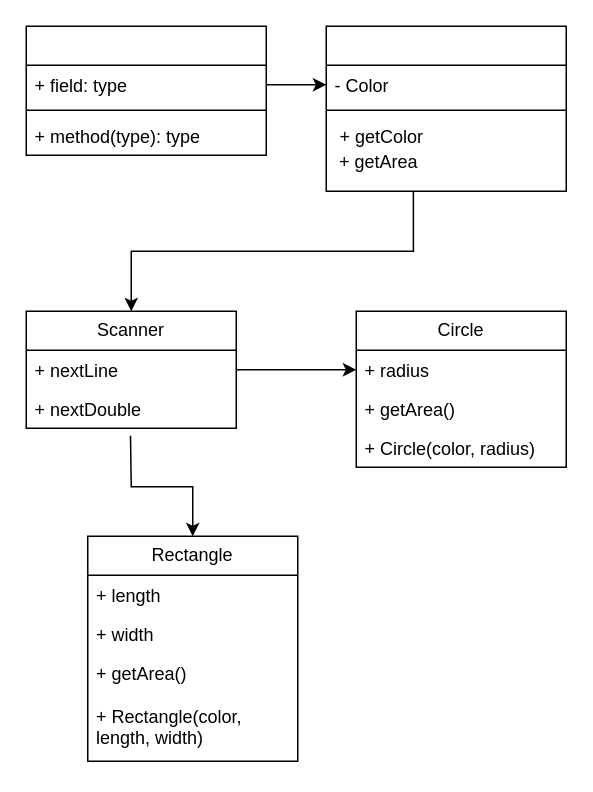
Some shapes in this 593 by 792 pixel diagram are drawn without their labels. Each missing label, with the box of its shape:
Shape: (325, 25, 566, 191)
UAS2: (25, 25, 266, 155)
